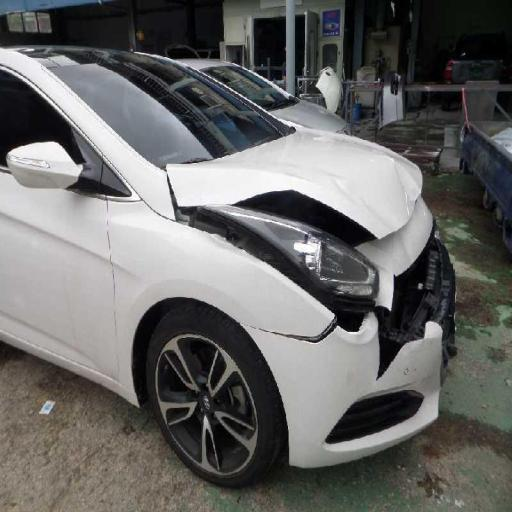broken: (206, 182, 393, 372), (354, 275, 464, 411)
dent: (314, 137, 428, 233)
